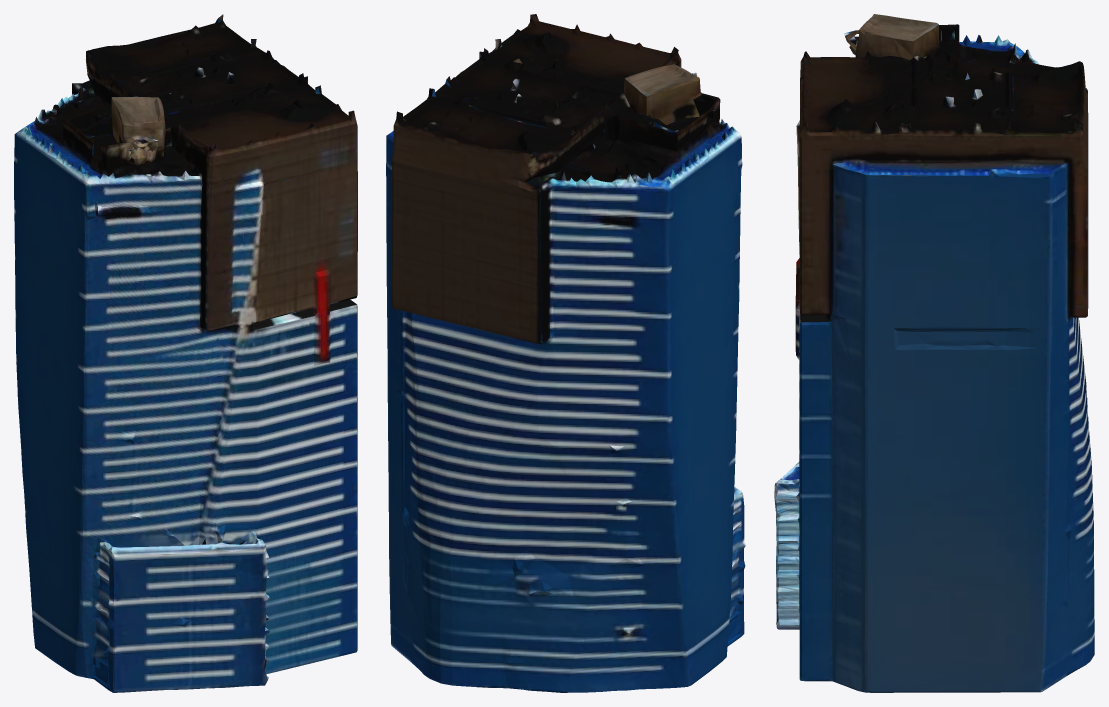
The model's file is skyline_melbourne.glb.
The picture shows the model from 3 angles, left to right: view 1: azimuth 30°, elevation 25°; view 2: azimuth 150°, elevation 25°; view 3: azimuth 270°, elevation 25°; orthographic projection. The views are drawn at different scales.
Parts seen in each view (by area): view 1: tmpcqsjwkc2.ply; view 2: tmpcqsjwkc2.ply; view 3: tmpcqsjwkc2.ply.
Part boxes in pixels (x1,y1,x2,y2): tmpcqsjwkc2.ply: (14,14,357,692); tmpcqsjwkc2.ply: (386,14,745,692); tmpcqsjwkc2.ply: (774,14,1094,692).
Bounding box in the file's own units: 0.9964 × 1.99 × 1.02.
Materials: 1 (1 with a texture image).
